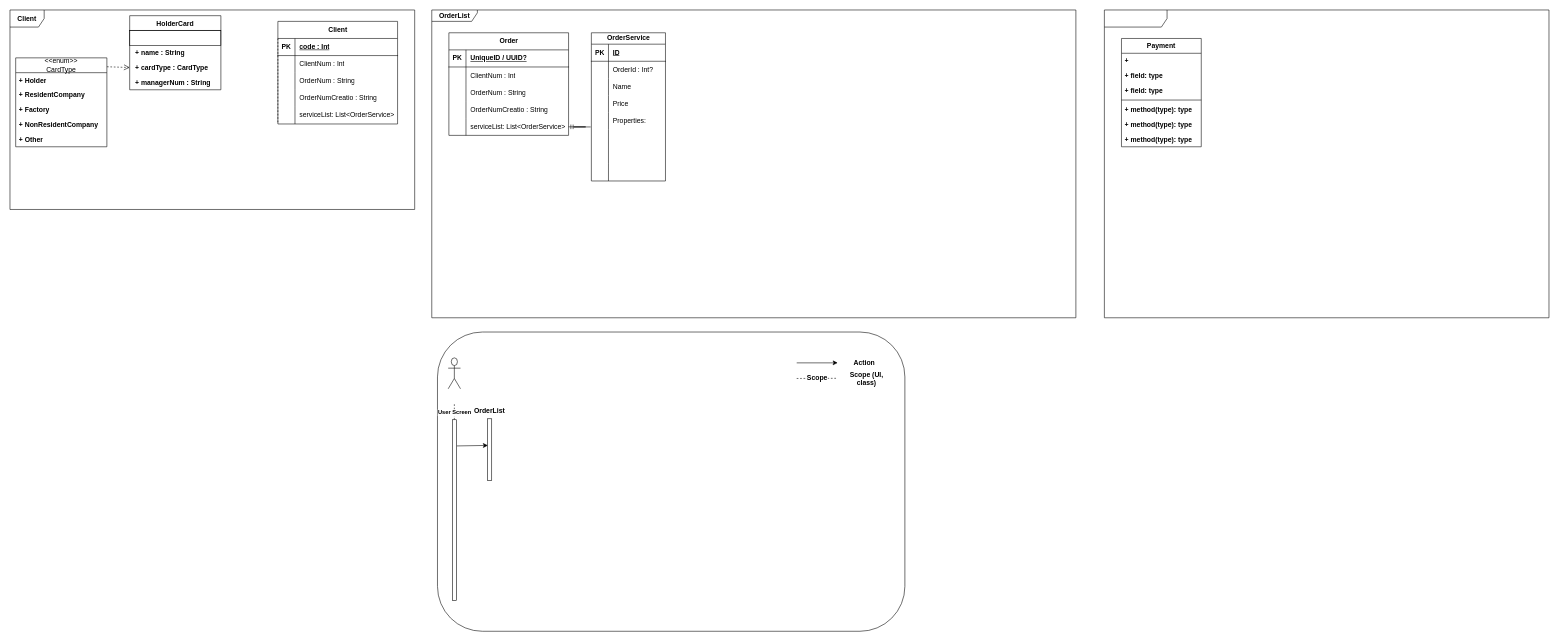
The diagram is 1559 pixels wide and 641 high, and some of its shapes have lost their labels. The shapes that lost their labels are listed below. From the top down, each one's centre as x and y in pixels, then its label:
At point 175,37: "+ code : Int".
At point 1326,163: "Payment Screen".
At point 454,373: "Customer".
